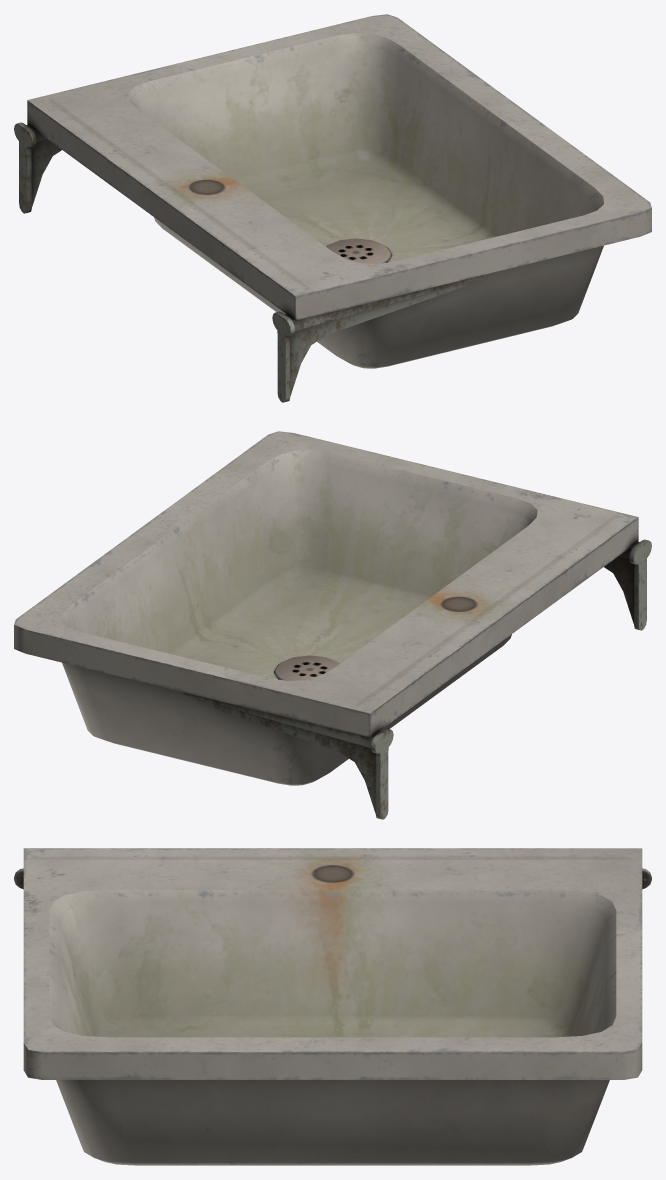
File: Sink_01.fbx
The picture shows the model from 3 angles, top to bottom: view 1: azimuth 30°, elevation 25°; view 2: azimuth 150°, elevation 25°; view 3: azimuth 270°, elevation 25°; orthographic projection. The views are drawn at different scales.
Visible parts, largest first — view 1: Sink01_Base_low; view 2: Sink01_Base_low; view 3: Sink01_Base_low.
Part boxes in pixels (x1,y1,x2,y2): Sink01_Base_low: (14,14,651,402); Sink01_Base_low: (14,431,651,819); Sink01_Base_low: (14,848,651,1165).
Bounding box in the file's own units: 61.02 × 19.27 × 78.76.
1 material, 1 textured.
